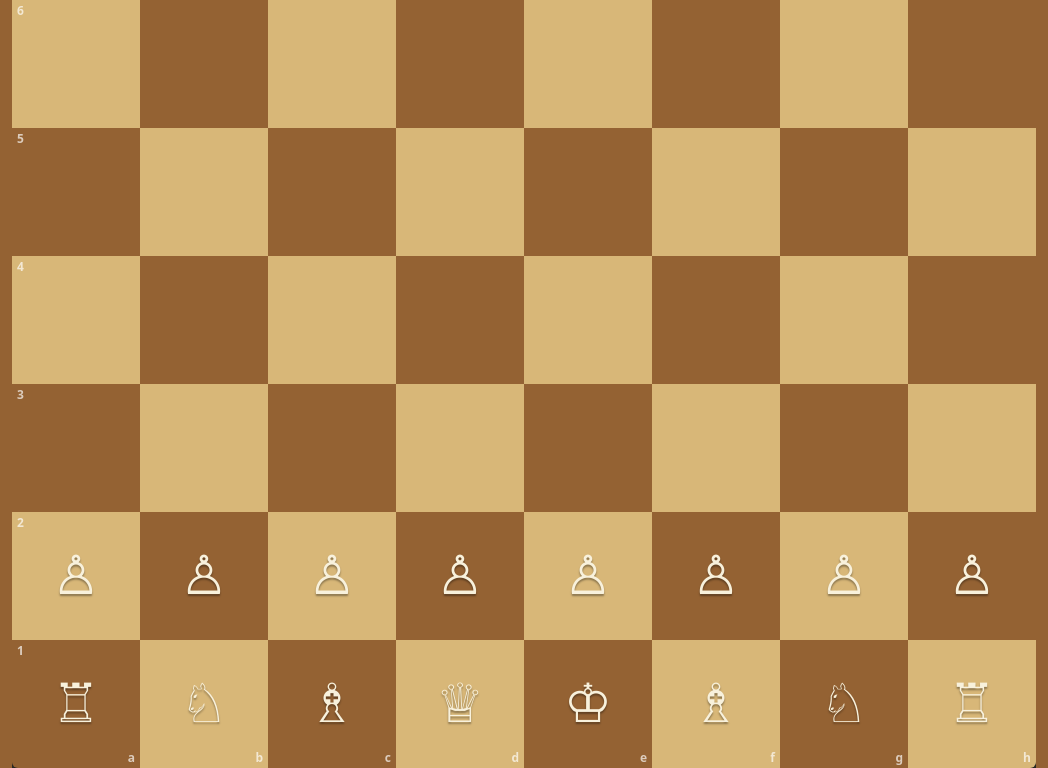
Test case: Board › shows_legal_move_hints_for_selected_piece
The width and height of the screenshot is (1048, 768).
(page scrolled)
Press the mouse on the button with test id "piece-white-pawn-e2" at (588, 576), box [524,512,652,640]
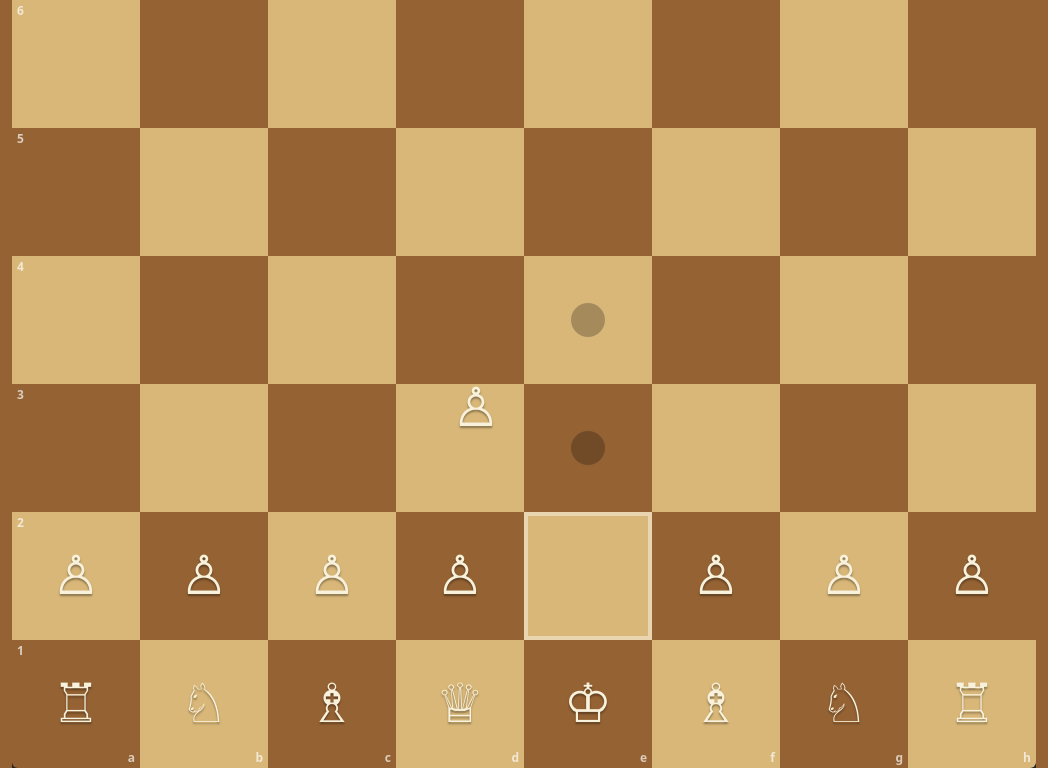
Now the element with test id "hint-e3" is shown, box [524,384,652,512]
Now the element with test id "hint-e4" is shown, box [524,256,652,384]
